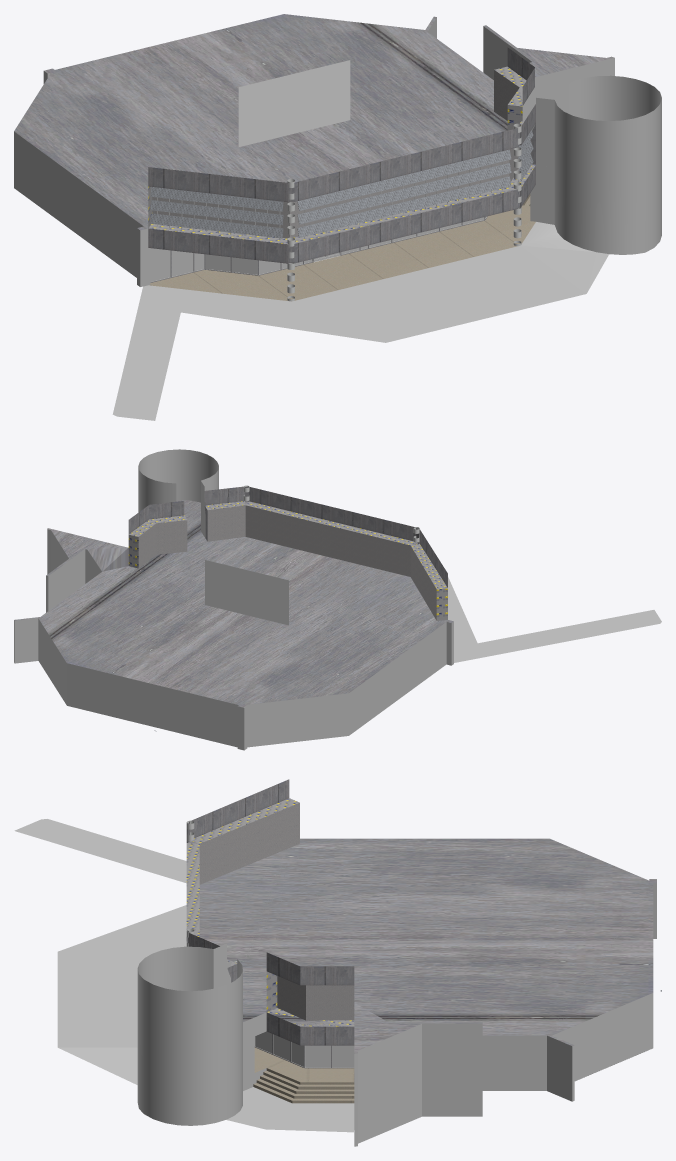
Rendered from env_cscShell.FBX.
3 views of the same model, one above another, from view 1: azimuth 30°, elevation 25°; view 2: azimuth 150°, elevation 25°; view 3: azimuth 270°, elevation 25° (orthographic). The views are drawn at different scales.
Parts seen in each view (by area): view 1: env_cscShell, env_cscConcrete, env_buildingIntelsatFront01, env_buildingIntelsatCylinder01, helperPlane01, env_cscWindows, env_cscColumn; view 2: env_cscShell, env_buildingIntelsatFront01, env_cscConcrete, env_buildingIntelsatCylinder01, helperPlane01; view 3: env_cscShell, env_cscConcrete, env_buildingIntelsatFront01, env_buildingIntelsatCylinder01, env_cscWindows.
Boxes of the visible parts, <box> form: env_cscShell: <box>14,14,661,286</box>; env_cscConcrete: <box>112,194,608,420</box>; env_buildingIntelsatFront01: <box>148,47,535,244</box>; env_buildingIntelsatCylinder01: <box>532,75,661,188</box>; helperPlane01: <box>238,60,350,146</box>; env_cscWindows: <box>150,216,487,282</box>; env_cscColumn: <box>287,123,521,301</box>; env_cscShell: <box>14,500,453,750</box>; env_buildingIntelsatFront01: <box>128,486,447,620</box>; env_cscConcrete: <box>448,577,661,662</box>; env_buildingIntelsatCylinder01: <box>138,449,218,538</box>; helperPlane01: <box>205,560,288,625</box>; env_cscShell: <box>137,838,656,1146</box>; env_cscConcrete: <box>14,819,354,1132</box>; env_buildingIntelsatFront01: <box>186,779,354,1026</box>; env_buildingIntelsatCylinder01: <box>137,943,242,1056</box>; env_cscWindows: <box>254,1031,354,1068</box>.
Size of the model in its own units: 44.98 by 8.98 by 39.14.
